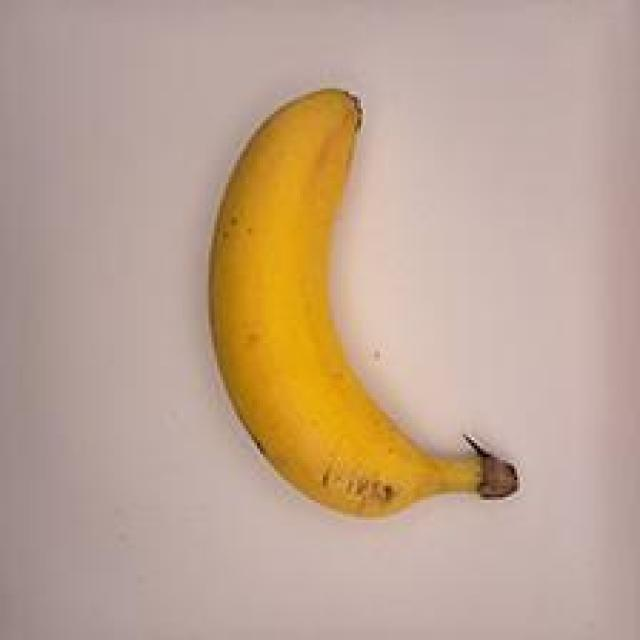Ripe: (156, 74, 548, 548)
